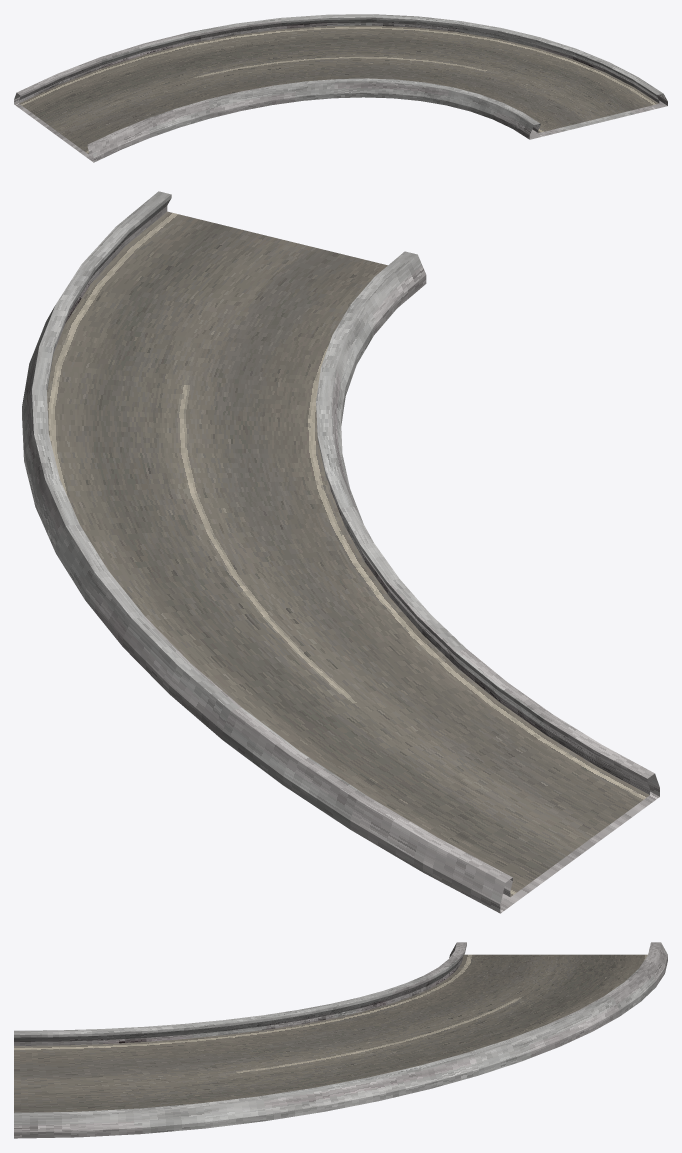
Rendered from road-Turn-Flat-BiSlopeDown-Down2-Left-Size3.glb.
3 views of the same model, one above another, from view 1: azimuth 30°, elevation 25°; view 2: azimuth 150°, elevation 25°; view 3: azimuth 270°, elevation 25° (orthographic). The views are drawn at different scales.
Parts seen in each view (by area): view 1: road-Turn-Flat-BiSlopeDown-Down2-Left-Size3; view 2: road-Turn-Flat-BiSlopeDown-Down2-Left-Size3; view 3: road-Turn-Flat-BiSlopeDown-Down2-Left-Size3.
Part boxes in pixels (<box>): road-Turn-Flat-BiSlopeDown-Down2-Left-Size3: <box>14,14,667,162</box>; road-Turn-Flat-BiSlopeDown-Down2-Left-Size3: <box>22,191,659,913</box>; road-Turn-Flat-BiSlopeDown-Down2-Left-Size3: <box>14,942,667,1138</box>.
Bounding box in the file's own units: 3 × 0.5938 × 3.
Materials: 2 (2 with a texture image).
